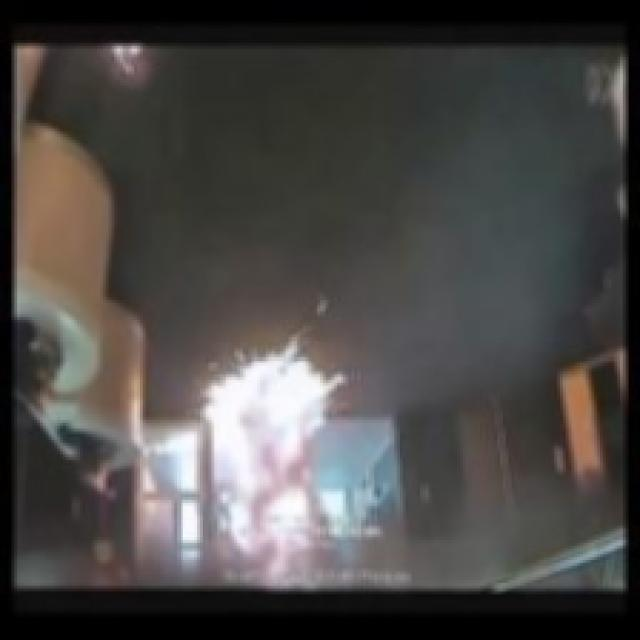fire: (182, 280, 364, 554)
